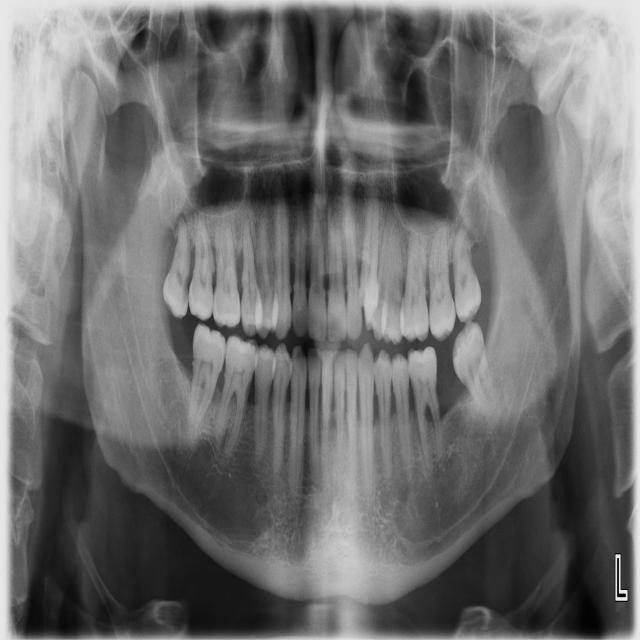mandibula: (67, 70, 601, 607)
